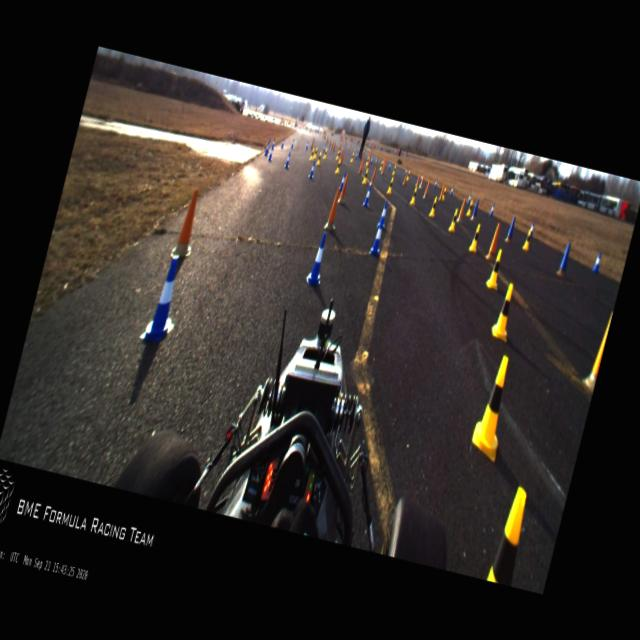blue_cone: (140, 250, 190, 348), (306, 230, 330, 284), (368, 216, 388, 256), (375, 200, 390, 232), (590, 248, 604, 274), (362, 185, 374, 208), (337, 170, 347, 192), (267, 142, 276, 161), (308, 160, 317, 178), (284, 150, 292, 168), (527, 221, 535, 238), (488, 202, 496, 218), (264, 141, 270, 155), (466, 192, 472, 205), (271, 137, 276, 150), (449, 185, 454, 196), (280, 138, 285, 148), (418, 172, 423, 182), (266, 140, 270, 152), (290, 139, 295, 148), (433, 180, 438, 188), (338, 146, 342, 156), (305, 141, 309, 150), (322, 144, 326, 153), (354, 151, 358, 160), (403, 166, 407, 175), (388, 162, 392, 170), (369, 156, 373, 164)
yellow_cone: (466, 351, 520, 462), (483, 482, 538, 586), (489, 280, 520, 342), (484, 246, 506, 291), (468, 222, 482, 254), (448, 208, 460, 233), (428, 194, 440, 218), (522, 226, 533, 250), (408, 184, 419, 206), (385, 177, 395, 196), (362, 166, 371, 186), (466, 200, 474, 217), (334, 158, 342, 174), (440, 183, 447, 200), (312, 144, 318, 160), (316, 152, 322, 164), (323, 147, 328, 160), (310, 146, 314, 160), (378, 160, 383, 171), (364, 156, 370, 165), (392, 164, 396, 177), (406, 169, 410, 180), (350, 152, 354, 162), (336, 150, 340, 160)
